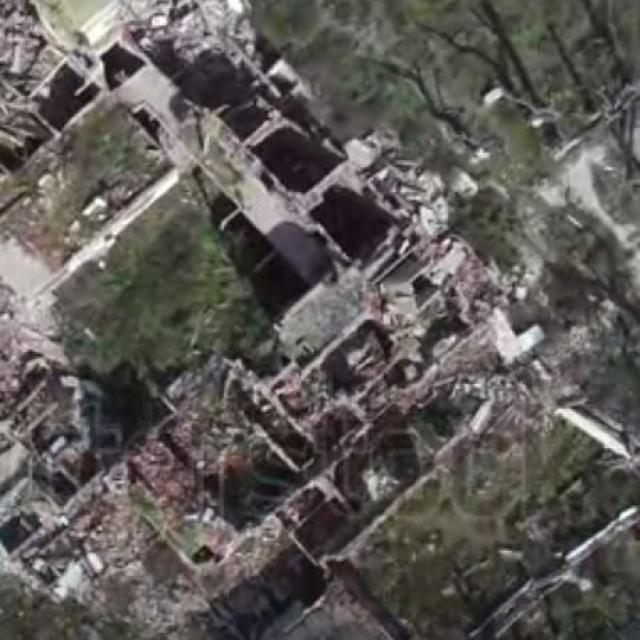collapsed_building: (0, 11, 639, 630)
